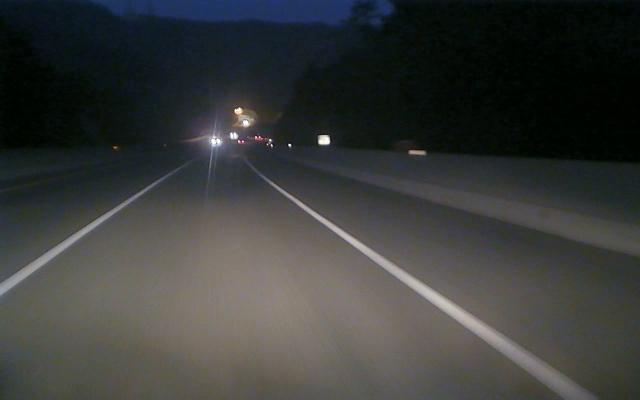lane: (272, 185, 603, 400), (0, 172, 173, 298)
